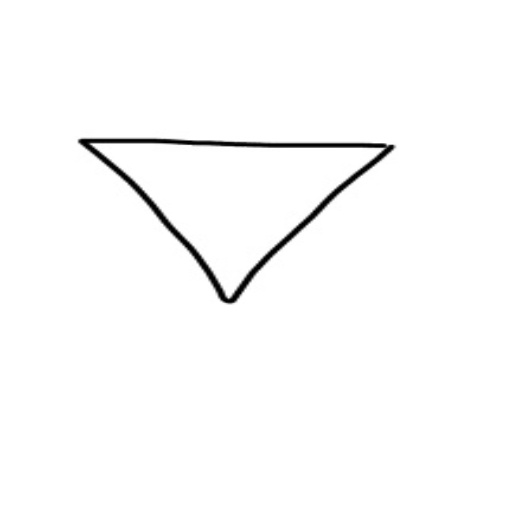triangle: (76, 135, 406, 308)
